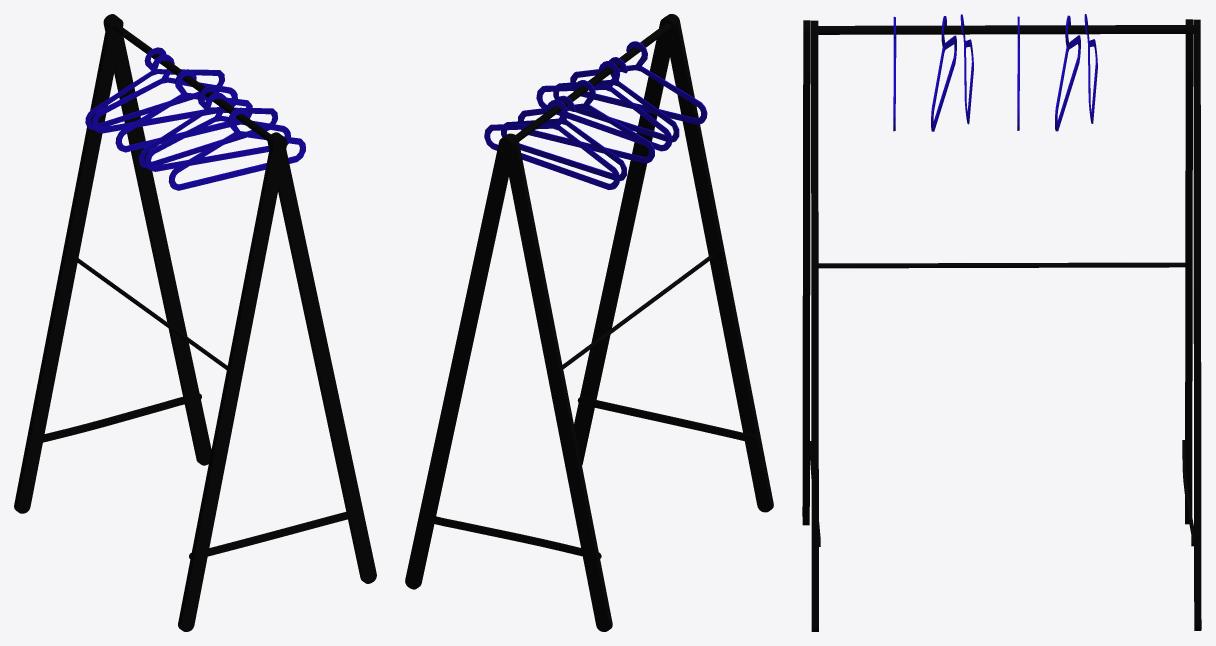
The model's file is gardrobe.glb.
The picture shows the model from 3 angles, left to right: view 1: azimuth 30°, elevation 25°; view 2: azimuth 150°, elevation 25°; view 3: azimuth 270°, elevation 25°; orthographic projection. The views are drawn at different scales.
Visible parts, largest first — view 1: Cube.019, Plane.009; view 2: Cube.019, Plane.009; view 3: Cube.019, Plane.009.
Part boxes in pixels (box(x1,y1,x2,y2)): Cube.019: box(14, 14, 376, 631); Plane.009: box(85, 47, 305, 190); Cube.019: box(405, 14, 773, 631); Plane.009: box(484, 41, 707, 189); Cube.019: box(802, 19, 1201, 631); Plane.009: box(893, 14, 1097, 131).
Bounding box in the file's own units: 0.6119 × 1.38 × 0.8898.
